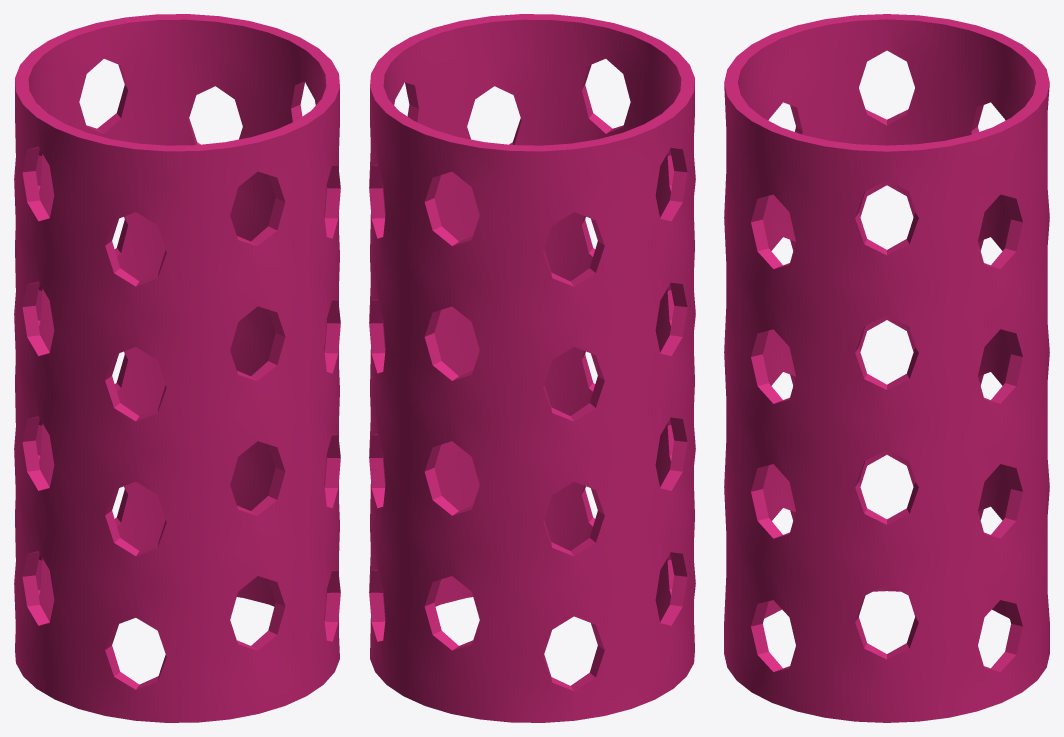
Rendered from collectable_rulo.fbx.
The picture shows the model from 3 angles, left to right: view 1: azimuth 30°, elevation 25°; view 2: azimuth 150°, elevation 25°; view 3: azimuth 270°, elevation 25°; orthographic projection.
Visible parts, largest first — view 1: Cylinder.001; view 2: Cylinder.001; view 3: Cylinder.001.
Boxes of the visible parts, box(x1,y1,x2,y2) form: Cylinder.001: box(14, 14, 340, 722); Cylinder.001: box(369, 14, 695, 722); Cylinder.001: box(724, 14, 1049, 722).
Size of the model in its own units: 0.2378 by 0.4608 by 0.2378.
